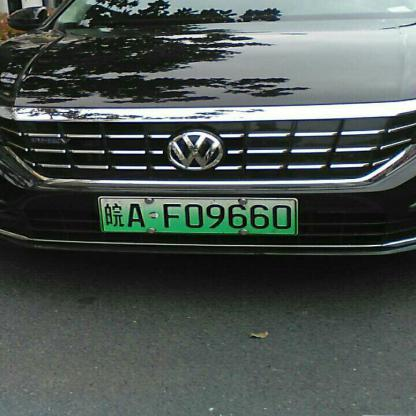lp: (99, 197, 296, 233)
